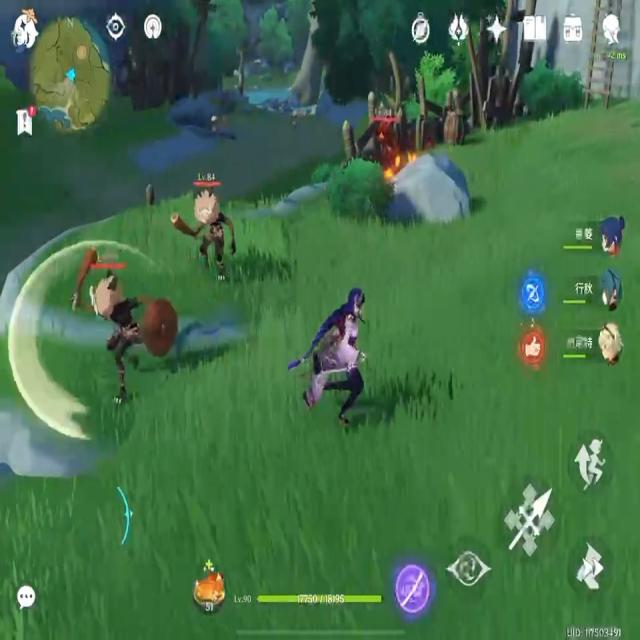genshin-hilichurls: (79, 240, 173, 398), (180, 172, 245, 298), (370, 111, 397, 168), (201, 110, 224, 136)
